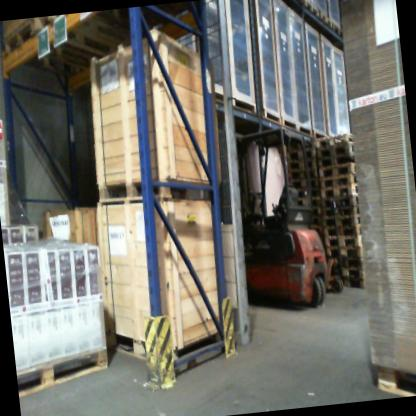forklift: (229, 124, 327, 316), (374, 357, 416, 399)
pallet: (108, 315, 222, 368), (15, 342, 110, 396), (96, 172, 211, 212), (0, 17, 37, 52), (323, 232, 363, 251), (320, 193, 360, 211), (319, 184, 358, 202), (322, 223, 361, 241), (314, 132, 353, 149), (322, 213, 360, 230), (316, 163, 356, 179), (321, 204, 360, 220), (318, 174, 356, 190), (327, 243, 362, 260), (316, 143, 354, 158), (328, 253, 363, 269), (315, 155, 354, 168), (338, 274, 366, 290), (338, 266, 365, 282), (288, 166, 317, 180), (293, 177, 320, 190), (304, 0, 321, 19), (297, 187, 320, 199), (329, 19, 341, 37), (318, 10, 329, 26)
pallet_truck: (314, 196, 350, 294)
